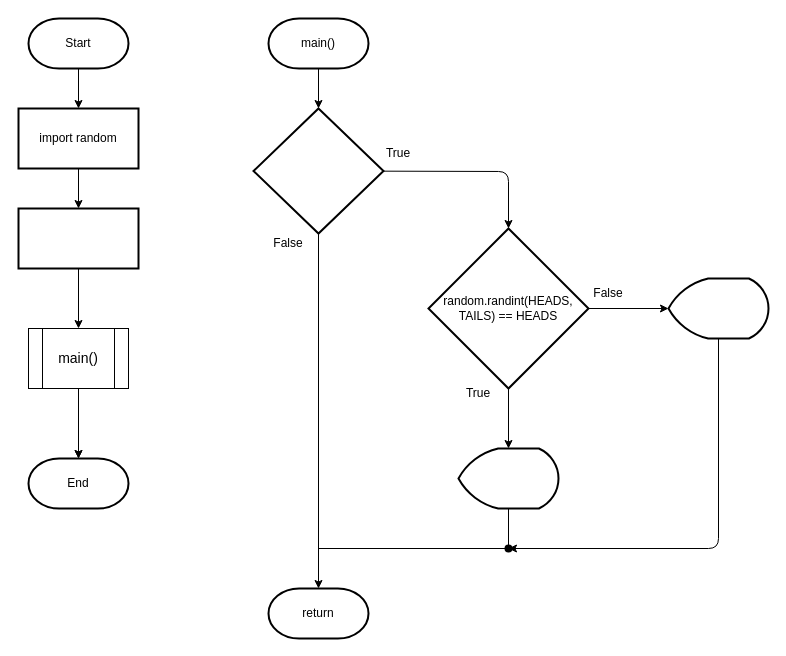
Some shapes in this 786 by 656 pixel diagram are drawn without their labels. Each missing label, with the centre of its shape:
"Heads": the point at 508,478
"Tails": the point at 718,308
for toss in range(TOSSES): the point at 318,170
HEADS = 1 TAILS = 2 TOSSES = 10: the point at 78,238
